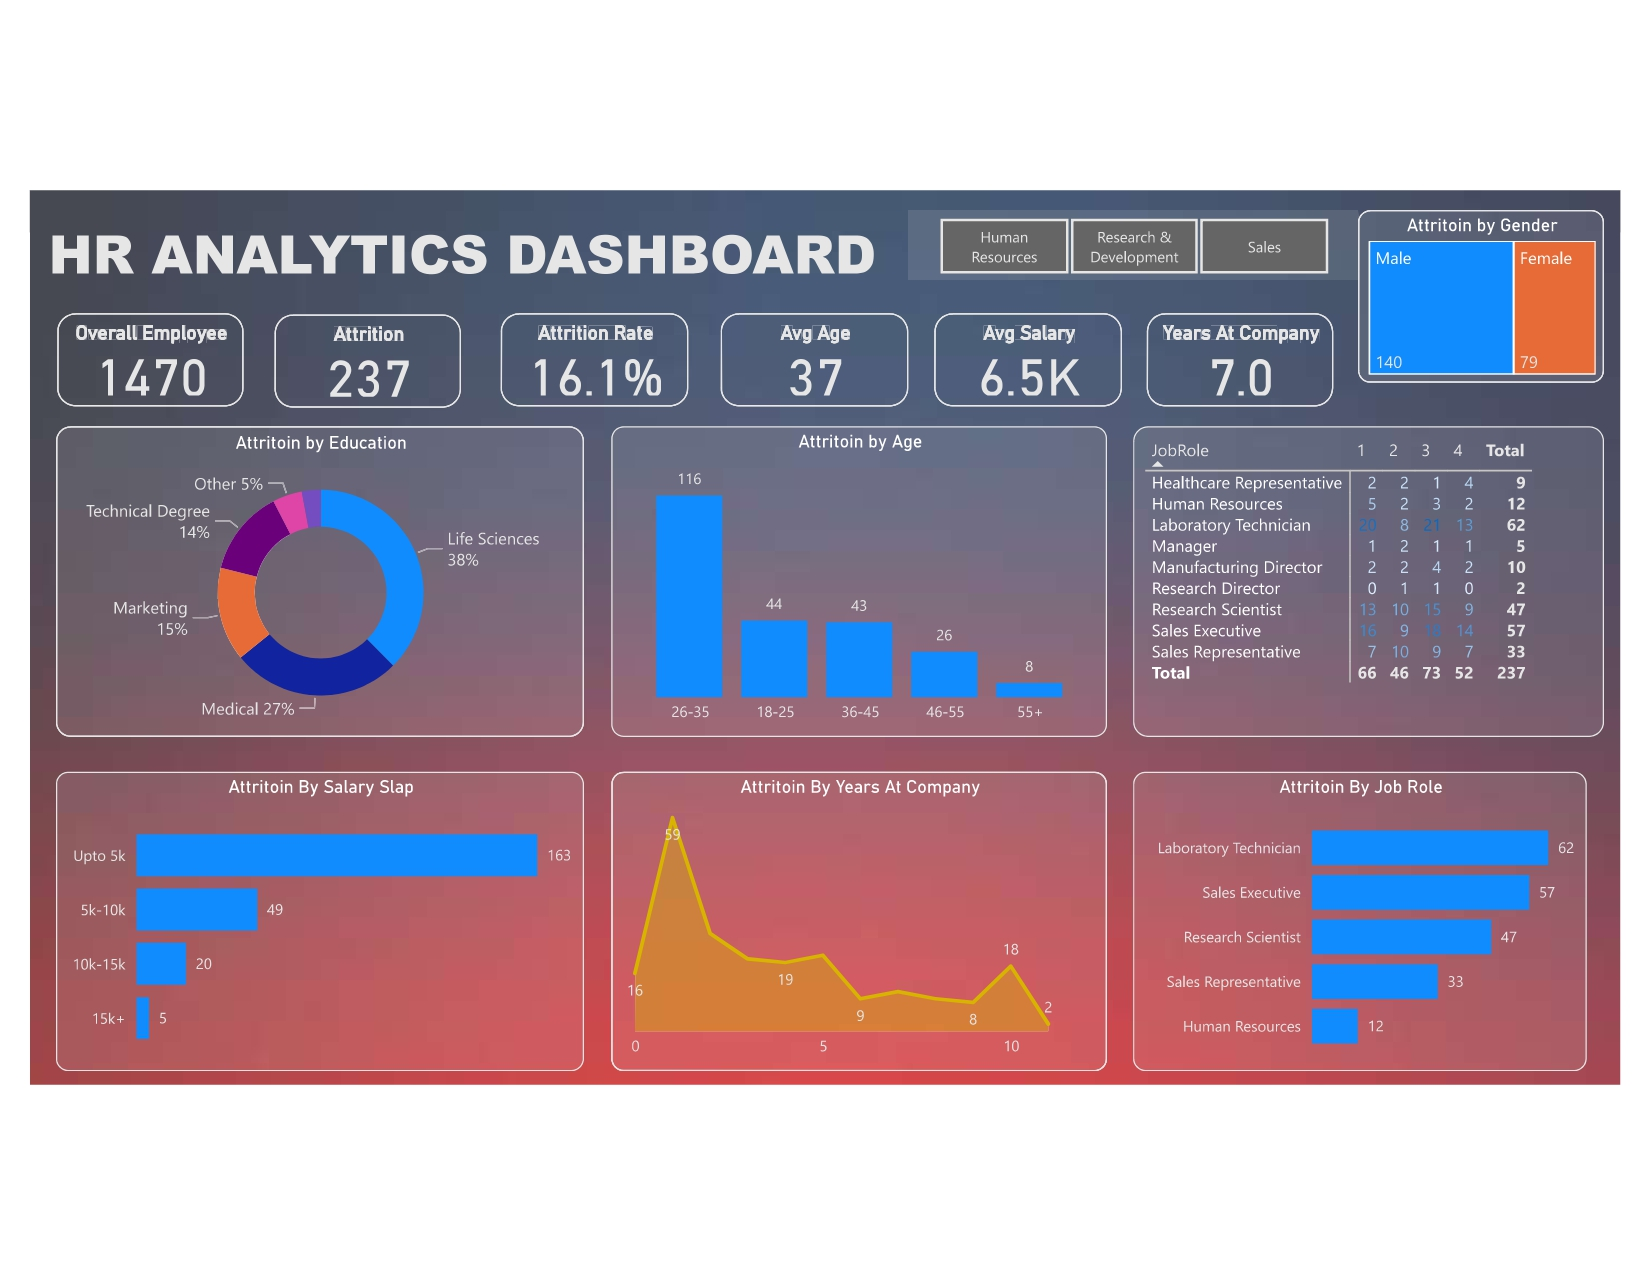

The dashboard page shown, as its layout file describes it:
{"tool":"powerbi","page":{"name":"Page 1","canvas":[1280,720],"ordinal":0},"visuals":[{"type":"card","title":"Overall Employee","fields":{"Values":["Count(HR_Analytics.EmpID)"]},"box":[21.8,99,150.4,75],"z":0},{"type":"card","title":"Attrition","fields":{"Values":["Sum(HR_Analytics.AttritoinCount)"]},"box":[196.9,100.1,150,75],"z":1000},{"type":"card","title":"Attrition Rate","fields":{"Values":["HR_Analytics.AttritionRate"]},"box":[379.1,99,150.8,75],"z":2000},{"type":"card","title":"Avg Age","fields":{"Values":["Avg(HR_Analytics.Age)"]},"box":[555.8,99,150.8,75],"z":3000},{"type":"card","title":"Avg Salary","fields":{"Values":["Avg(HR_Analytics.MonthlyIncome)"]},"box":[727.9,99,150.8,75],"z":4000},{"type":"card","title":"Years At Company","fields":{"Values":["Avg(HR_Analytics.YearsAtCompany)"]},"box":[898.9,99,149.6,75],"z":5000},{"type":"donutChart","title":"Attritoin by Education","fields":{"Category":["HR_Analytics.EducationField"],"Y":["Sum(HR_Analytics.AttritoinCount)"]},"box":[21.4,190.1,424.1,249.8],"z":6000},{"type":"pivotTable","fields":{"Rows":["HR_Analytics.JobRole"],"Columns":["HR_Analytics.JobSatisfaction"],"Values":["Sum(HR_Analytics.AttritoinCount)"]},"box":[887.6,190.1,379.1,249.8],"z":7000},{"type":"barChart","title":"Attritoin By Salary Slap","fields":{"Category":["HR_Analytics.SalarySlab"],"Y":["Sum(HR_Analytics.AttritoinCount)"]},"box":[21.4,468,424.1,240.8],"z":8000},{"type":"barChart","title":"Attritoin By Job Role","fields":{"Category":["HR_Analytics.JobRole"],"Y":["Sum(HR_Analytics.AttritoinCount)"]},"box":[887.6,468,365.6,240.8],"z":9000},{"type":"columnChart","title":"Attritoin by Age","fields":{"Category":["HR_Analytics.AgeGroup"],"Y":["Sum(HR_Analytics.AttritoinCount)"]},"box":[468,190.1,399.4,249.8],"z":10000},{"type":"areaChart","title":"Attritoin By Years At Company","fields":{"Category":["HR_Analytics.YearsAtCompany"],"Y":["Sum(HR_Analytics.AttritoinCount)"]},"box":[468,468,399.4,240.8],"z":11000},{"type":"treemap","title":"Attritoin by Gender","fields":{"Values":["Sum(HR_Analytics.AttritoinCount)"],"Group":["HR_Analytics.Gender"]},"box":[1068.8,15.8,198,139.5],"z":12000},{"type":"slicer","fields":{"Values":["HR_Analytics.Department"]},"box":[706.5,15.8,362.2,56.2],"z":13000},{"type":"textbox","box":[10.1,14.6,760.5,75.4],"z":14000}]}

Visuals, with their boxes in screenshot pixels (x1, y1, x2, y2):
"Overall Employee" card: locate(32, 302, 223, 397)
"Attrition" card: locate(255, 303, 445, 399)
"Attrition Rate" card: locate(486, 302, 678, 397)
"Avg Age" card: locate(711, 302, 903, 397)
"Avg Salary" card: locate(930, 302, 1121, 397)
"Years At Company" card: locate(1147, 302, 1337, 397)
"Attritoin by Education" donutChart: locate(32, 418, 571, 735)
pivotTable - HR_Analytics.JobRole x HR_Analytics.JobSatisfaction: locate(1133, 418, 1615, 735)
"Attritoin By Salary Slap" barChart: locate(32, 771, 571, 1077)
"Attritoin By Job Role" barChart: locate(1133, 771, 1597, 1077)
"Attritoin by Age" columnChart: locate(599, 418, 1107, 735)
"Attritoin By Years At Company" areaChart: locate(599, 771, 1107, 1077)
"Attritoin by Gender" treemap: locate(1363, 196, 1615, 374)
slicer - HR_Analytics.Department: locate(902, 196, 1363, 268)
textbox: locate(17, 195, 984, 291)
